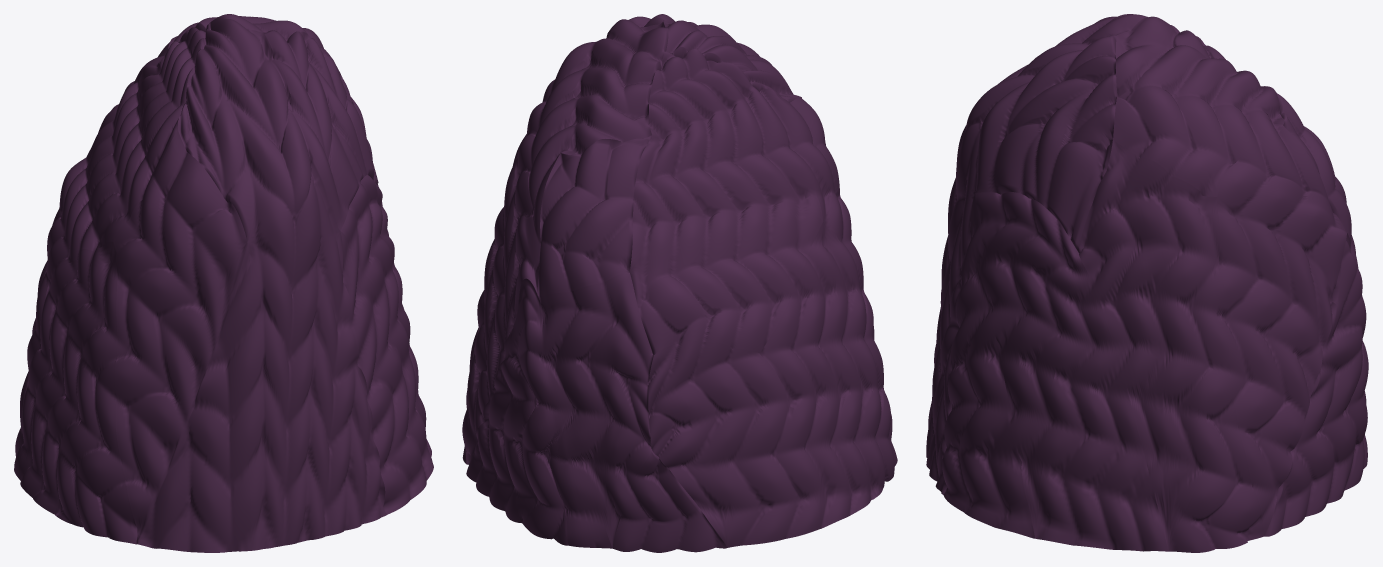
The model's file is roca 1.fbx.
The picture shows the model from 3 angles, left to right: view 1: azimuth 30°, elevation 25°; view 2: azimuth 150°, elevation 25°; view 3: azimuth 270°, elevation 25°; orthographic projection. The views are drawn at different scales.
Parts seen in each view (by area): view 1: stone_small_4; view 2: stone_small_4; view 3: stone_small_4.
Part boxes in pixels (x1,y1,x2,y2): stone_small_4: [14, 14, 433, 552]; stone_small_4: [462, 14, 897, 552]; stone_small_4: [926, 14, 1368, 552].
Size of the model in its own units: 124 by 142 by 126.
